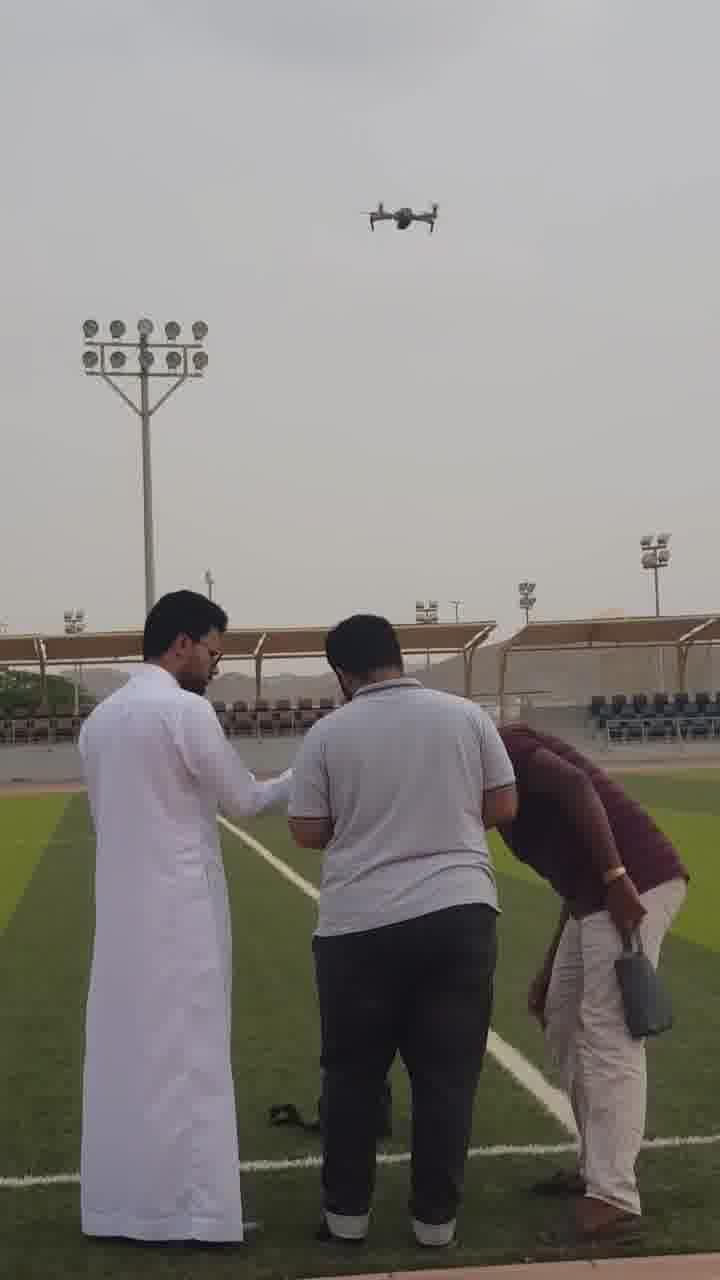drone: (359, 190, 448, 238)
